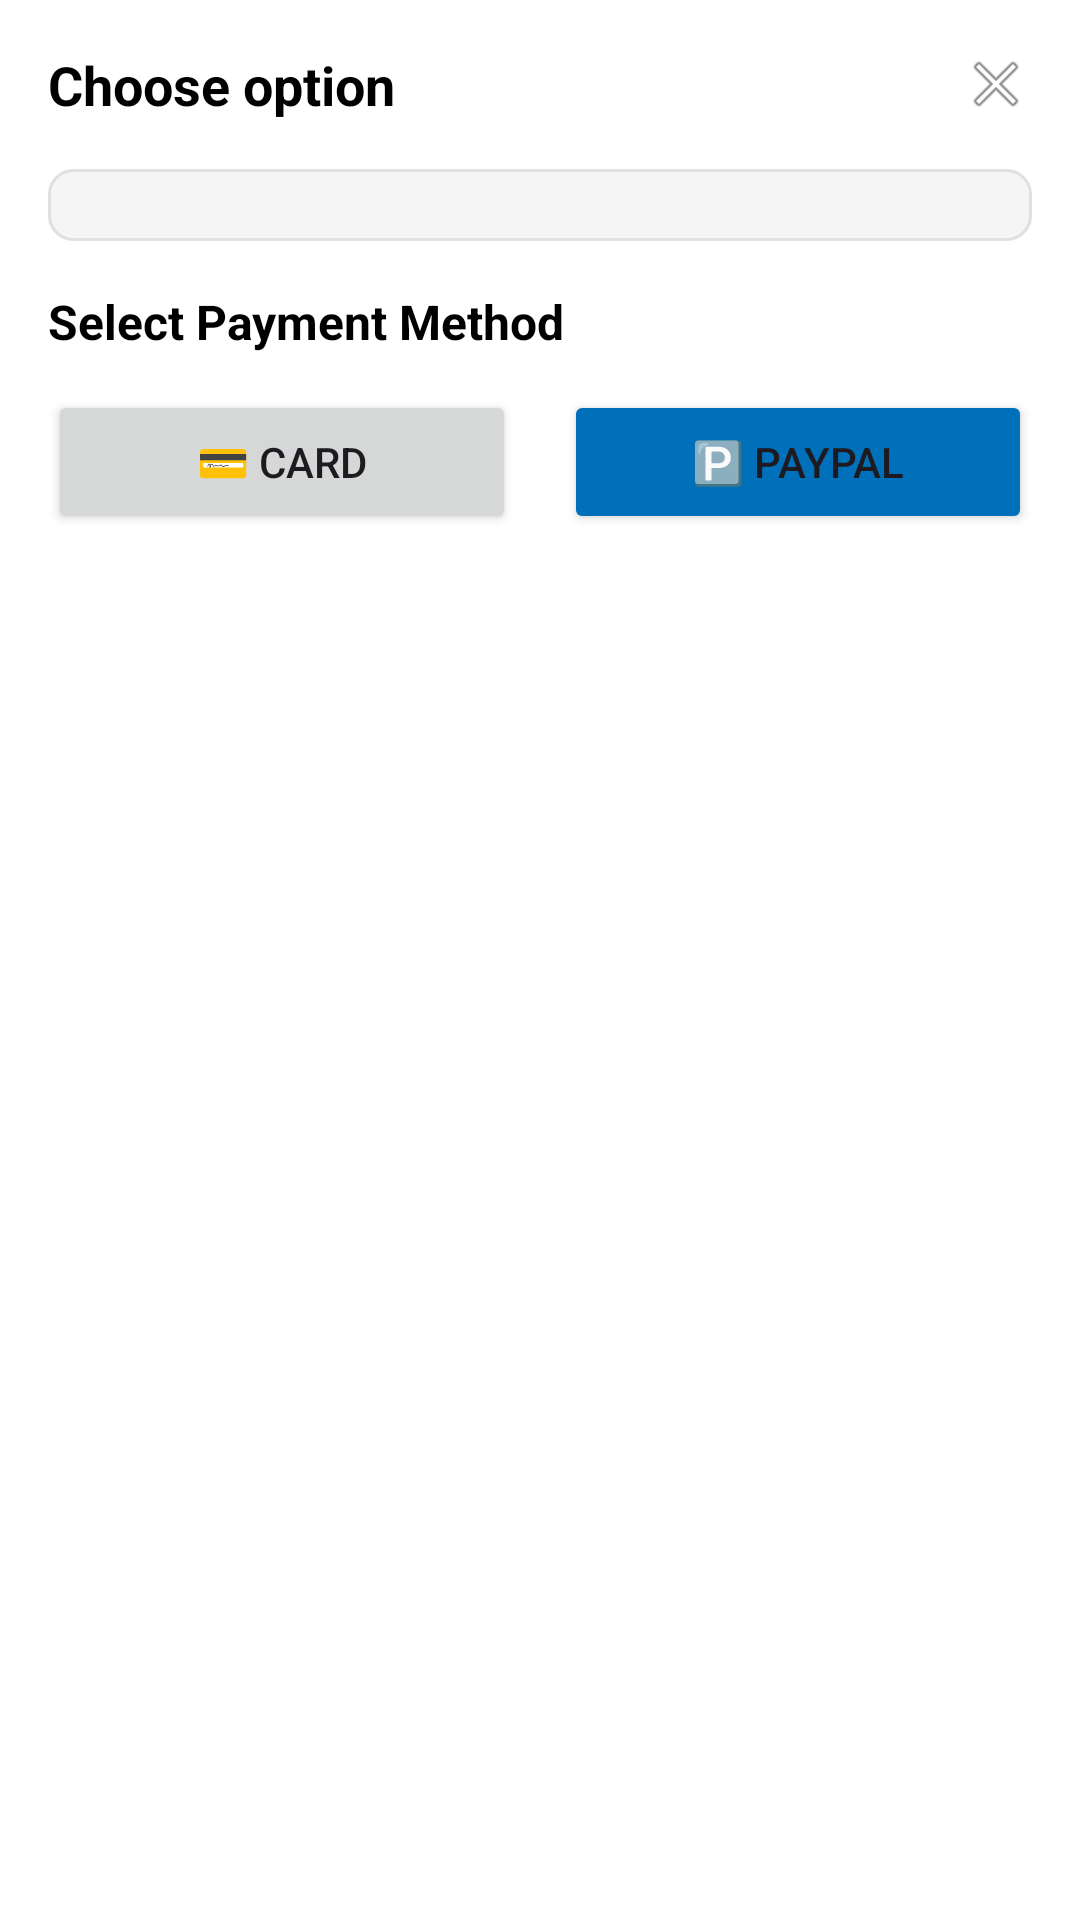

Point at icon controls on the screen. Image size 1080*1920, points as (x=x, y=y).
Close popup: (x=996, y=84)
